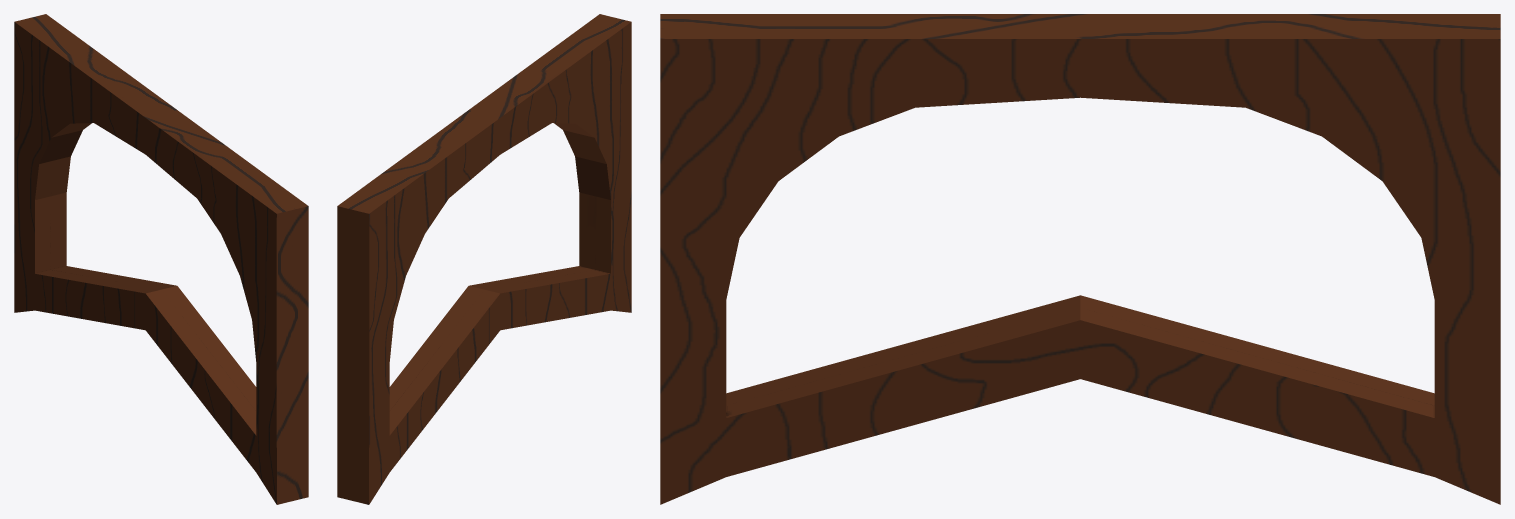
The model's file is Door_WindowTop.fbx.
3 renders of one model, left to right at view 1: azimuth 30°, elevation 25°; view 2: azimuth 150°, elevation 25°; view 3: azimuth 270°, elevation 25°, orthographic. The views are drawn at different scales.
Visible parts, largest first — view 1: TopDoorWindow.001; view 2: TopDoorWindow.001; view 3: TopDoorWindow.001.
Part boxes in pixels (box(x1,y1,x2,y2)): TopDoorWindow.001: box(14, 14, 308, 504); TopDoorWindow.001: box(337, 14, 631, 504); TopDoorWindow.001: box(660, 14, 1500, 504).
Bounding box in the file's own units: 1157 × 708 × 80.9.
Materials: 1 (1 with a texture image).
